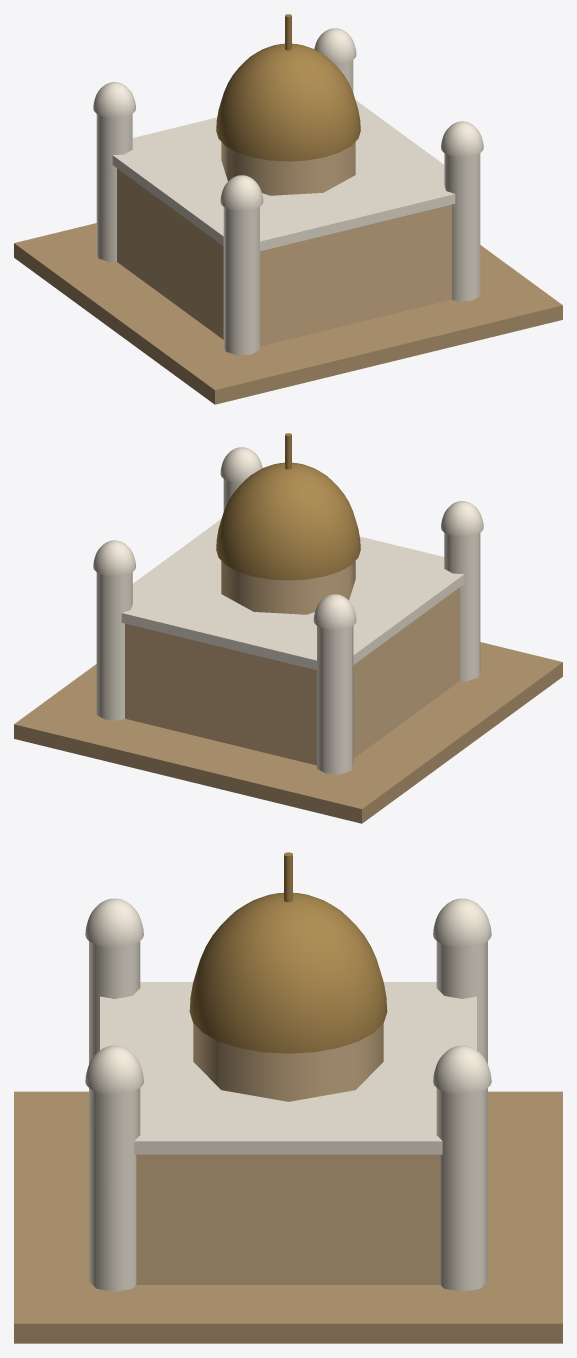
File: lalbagh-fort.glb
3 renders of one model, top to bottom at view 1: azimuth 30°, elevation 25°; view 2: azimuth 150°, elevation 25°; view 3: azimuth 270°, elevation 25°, orthographic. The views are drawn at different scales.
Visible parts, largest first — view 1: lalbagh-fort; view 2: lalbagh-fort; view 3: lalbagh-fort.
Part boxes in pixels (<box>): lalbagh-fort: <box>14,14,562,404</box>; lalbagh-fort: <box>14,433,562,823</box>; lalbagh-fort: <box>14,852,562,1343</box>.
Size of the model in its own units: 30 by 22.5 by 30.
